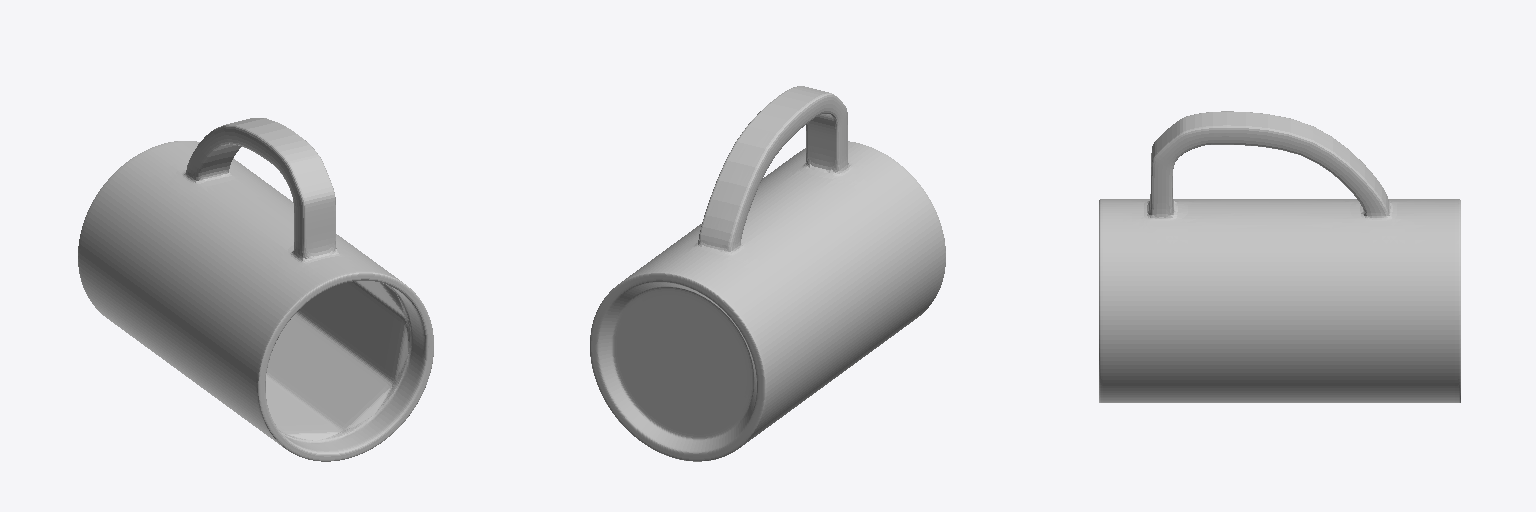
The picture shows the model from 3 angles: view 1: azimuth 30°, elevation 25°; view 2: azimuth 150°, elevation 25°; view 3: azimuth 270°, elevation 25°; orthographic projection.
Visible parts, largest first — view 1: CUP Clean; view 2: CUP Clean; view 3: CUP Clean.
Boxes of the visible parts, x1,y1,x2,y2 form: CUP Clean: [78, 118, 433, 461]; CUP Clean: [590, 86, 945, 461]; CUP Clean: [1099, 111, 1460, 402].
Bounding box in the file's own units: 0.0815 × 0.1213 × 0.145.